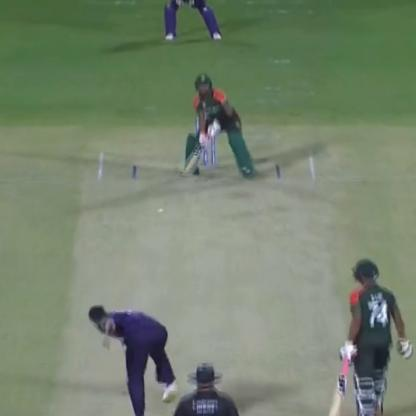ball: (152, 204, 169, 217)
bat: (328, 347, 357, 412), (181, 135, 205, 179)
pitch: (56, 145, 343, 416)
